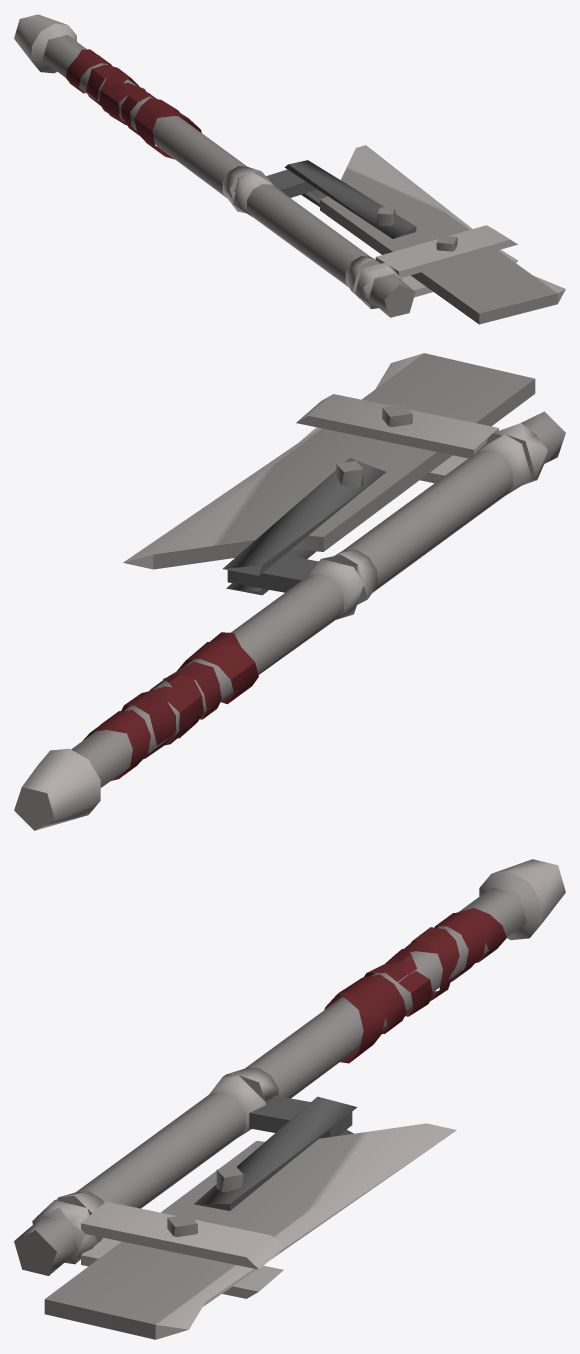
The model's file is cc0-axe-lod1.glb.
3 views of the same model, one above another, from view 1: azimuth 30°, elevation 25°; view 2: azimuth 150°, elevation 25°; view 3: azimuth 330°, elevation 25° (orthographic). The views are drawn at different scales.
Visible parts, largest first — view 1: part_0; view 2: part_0; view 3: part_0.
Part boxes in pixels (box(x1,y1,x2,y2)): part_0: box(14, 14, 565, 324); part_0: box(14, 353, 565, 830); part_0: box(14, 859, 565, 1339).
Bounding box in the file's own units: 0.3006 × 0.0875 × 1.3.
1 material, 1 textured.
